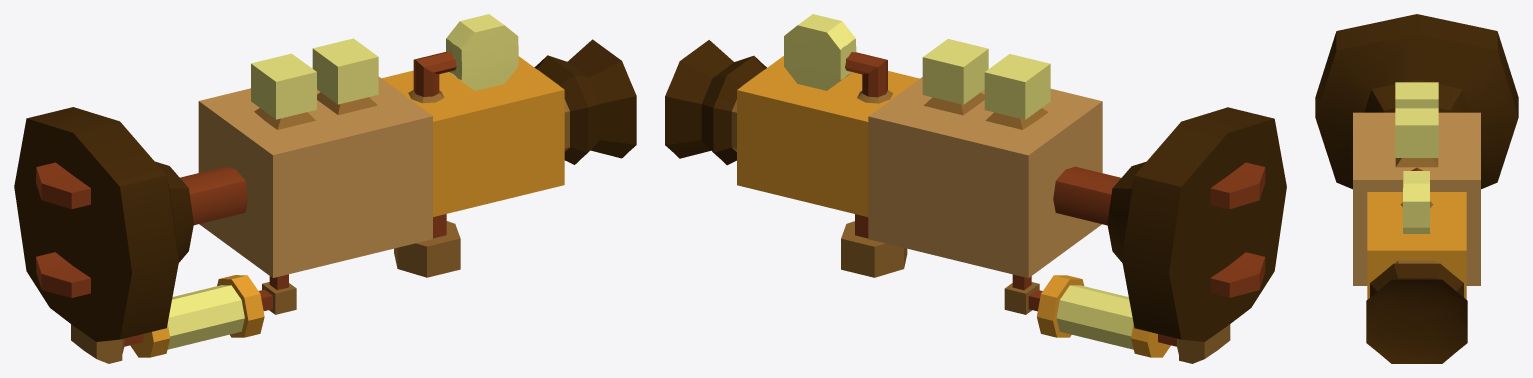
The model's file is Thunderbuss.fbx.
The picture shows the model from 3 angles, left to right: view 1: azimuth 30°, elevation 25°; view 2: azimuth 150°, elevation 25°; view 3: azimuth 270°, elevation 25°; orthographic projection. The views are drawn at different scales.
Parts seen in each view (by area): view 1: Thunderbuss_LowPoly; view 2: Thunderbuss_LowPoly; view 3: Thunderbuss_LowPoly.
Part boxes in pixels (x1=…): Thunderbuss_LowPoly: x1=14, y1=14, x2=636, y2=363; Thunderbuss_LowPoly: x1=665, y1=14, x2=1286, y2=363; Thunderbuss_LowPoly: x1=1315, y1=14, x2=1518, y2=363.
Bounding box in the file's own units: 39.61 × 17.2 × 14.31.
1 material, 1 textured.
